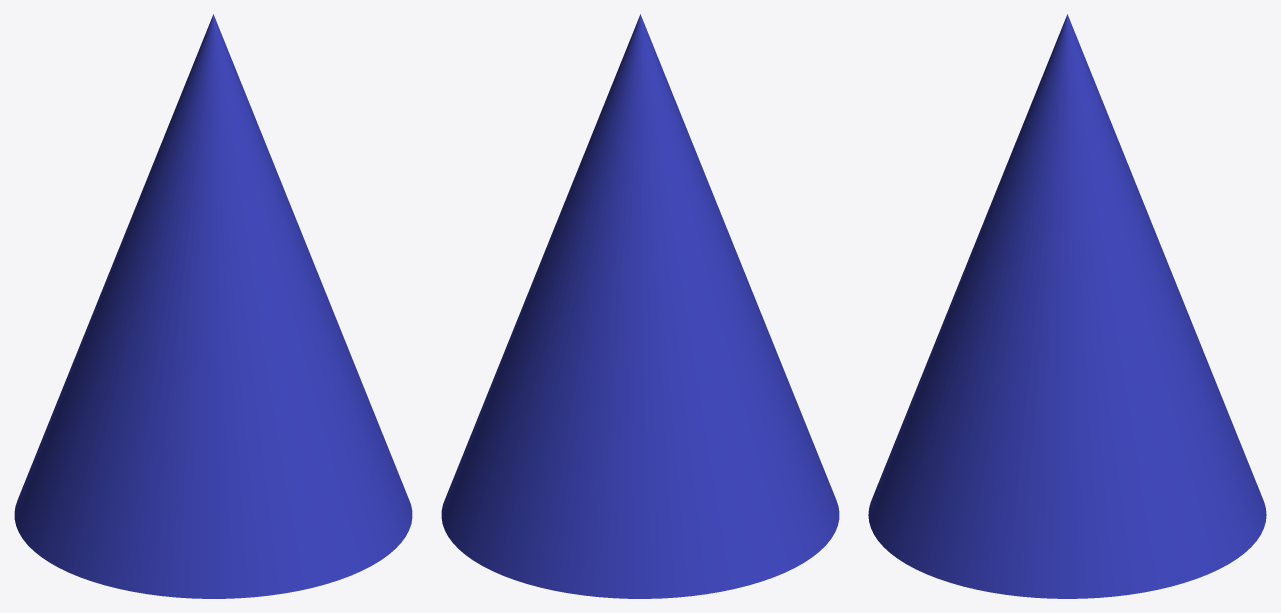
File: corn.fbx
3 views of the same model, side by side, from view 1: azimuth 30°, elevation 25°; view 2: azimuth 150°, elevation 25°; view 3: azimuth 270°, elevation 25° (orthographic).
Parts seen in each view (by area): view 1: root; view 2: root; view 3: root.
Part boxes in pixels (x1,y1,x2,y2): root: (14,14,412,598); root: (441,14,839,598); root: (868,14,1266,598).
Size of the model in its own units: 0.2135 by 0.2964 by 0.2135.
